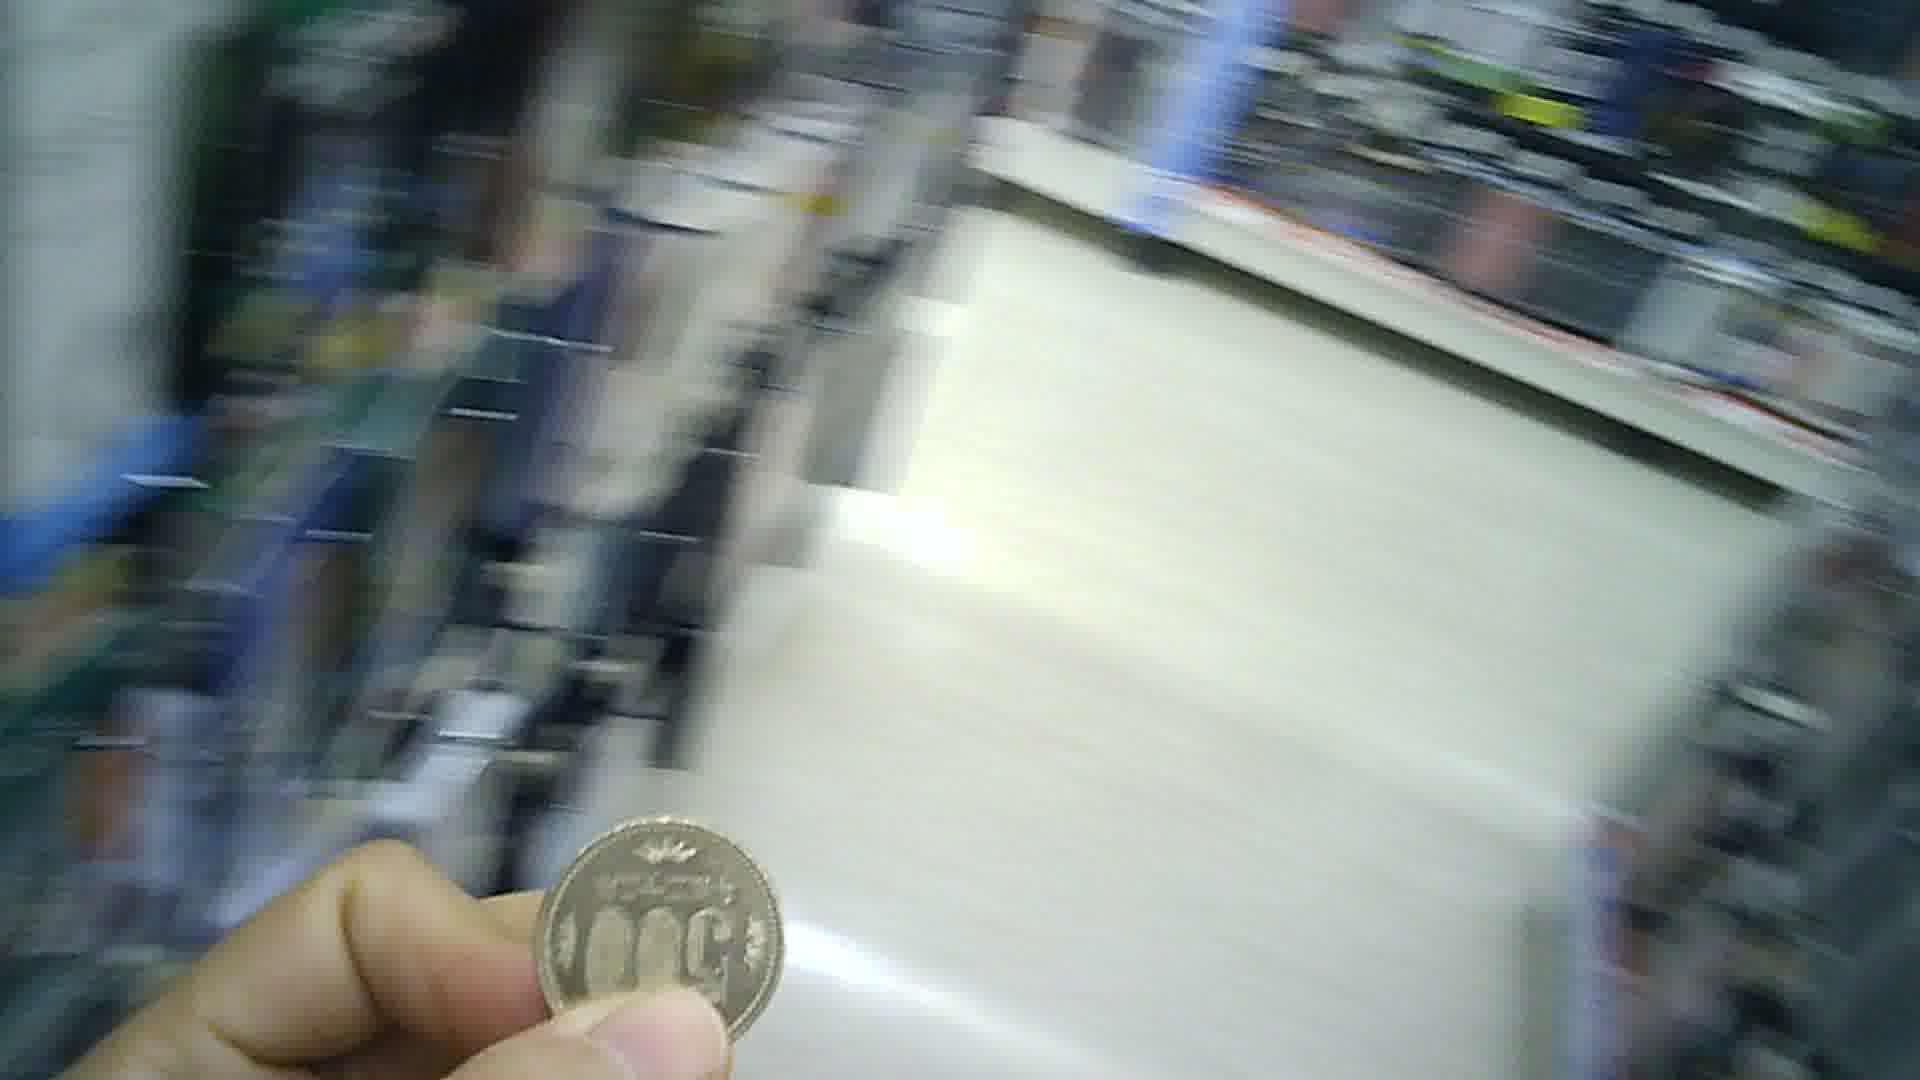500 Yen: (531, 814, 795, 1059)
